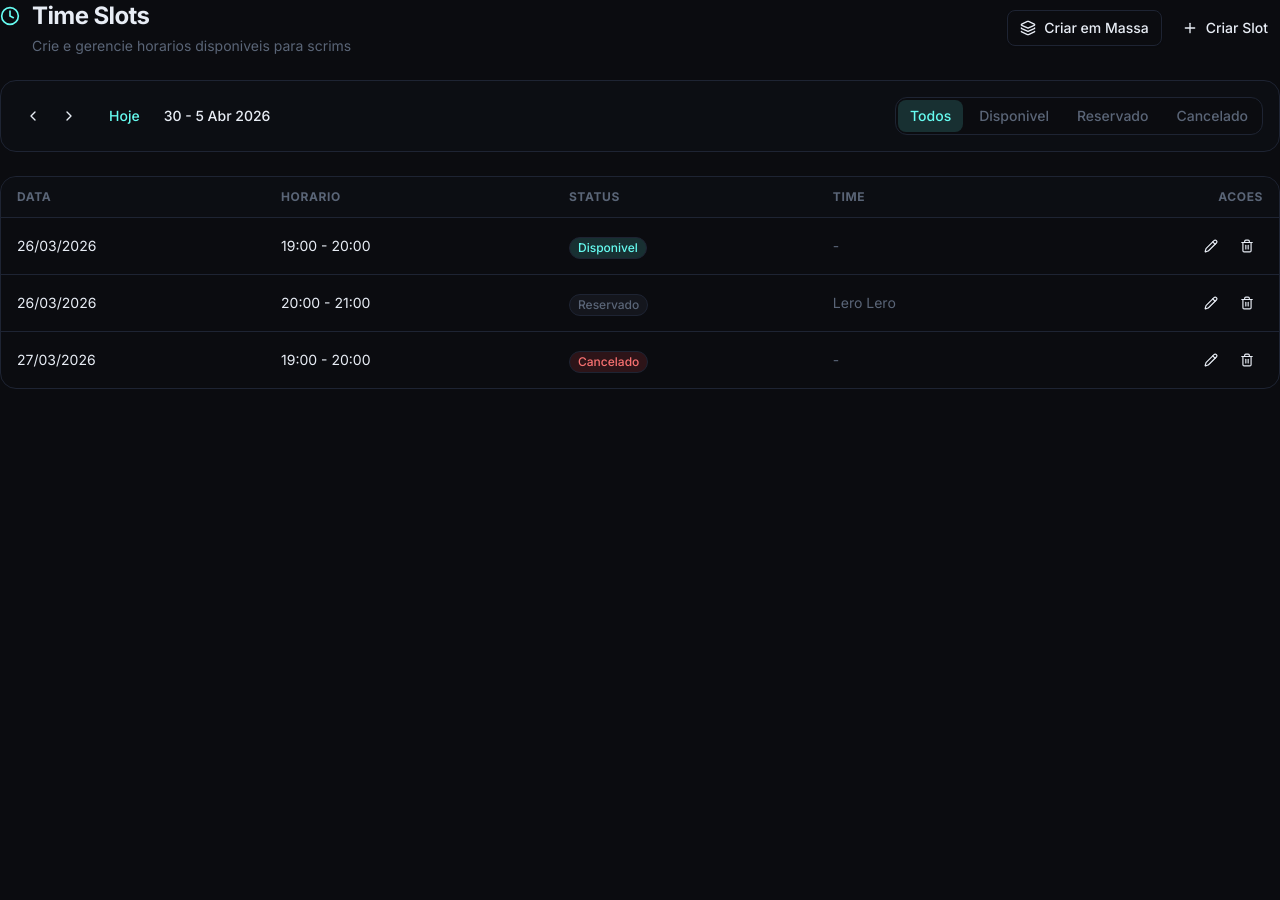
Test: AdminSlots › delete slot › opens confirm dialog when delete is clicked
The image size is (1280, 900).
Click the 1st button named "excluir".
click(1247, 246)  # box x1=1231 y1=230 x2=1263 y2=262
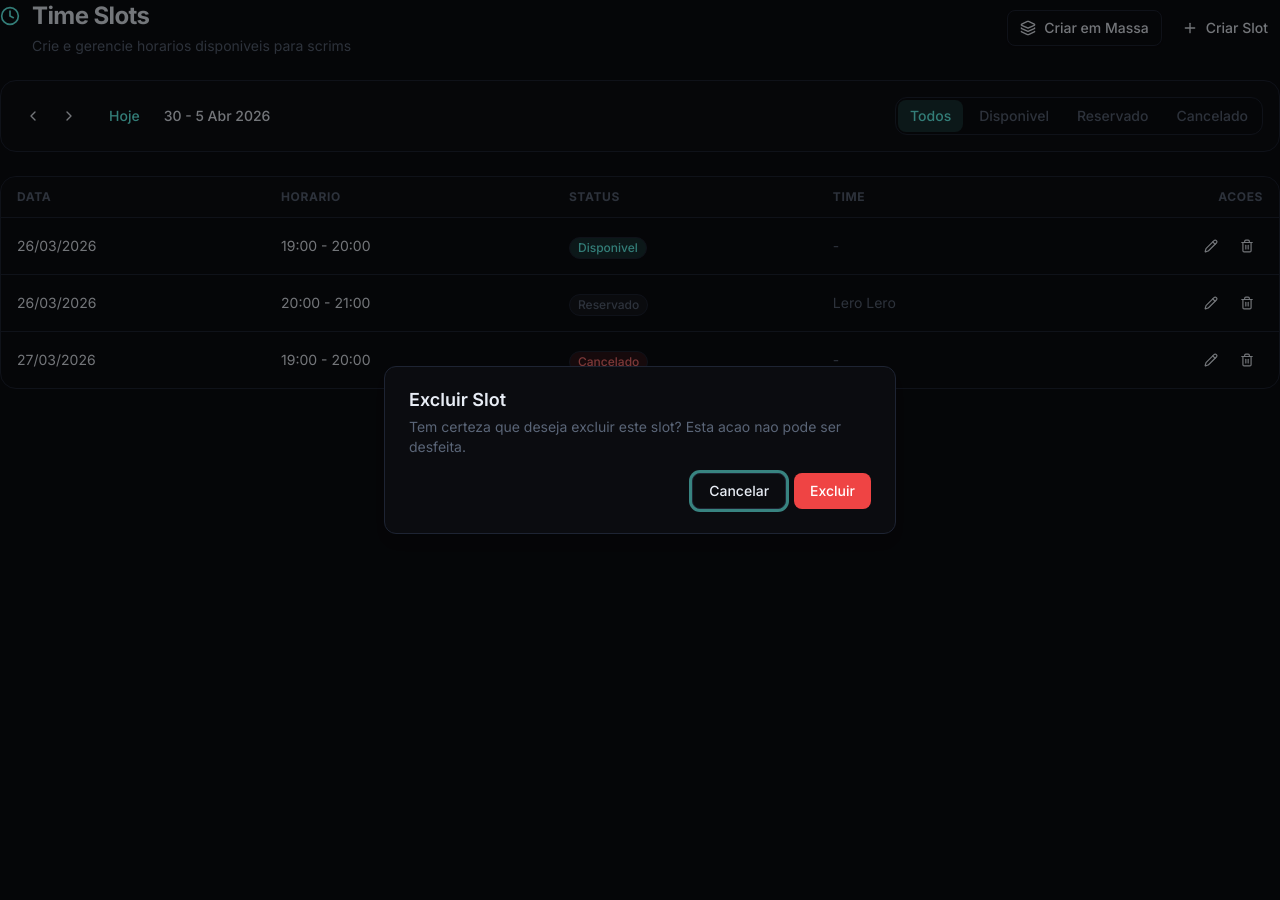
Check: the text "Tem certeza" is shown, box x1=409 y1=418 x2=841 y2=455
